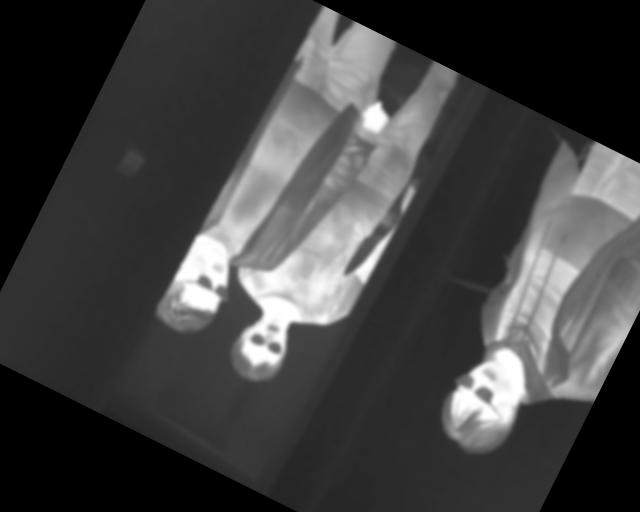face: (429, 348, 536, 467), (151, 235, 244, 345), (222, 303, 301, 392)
